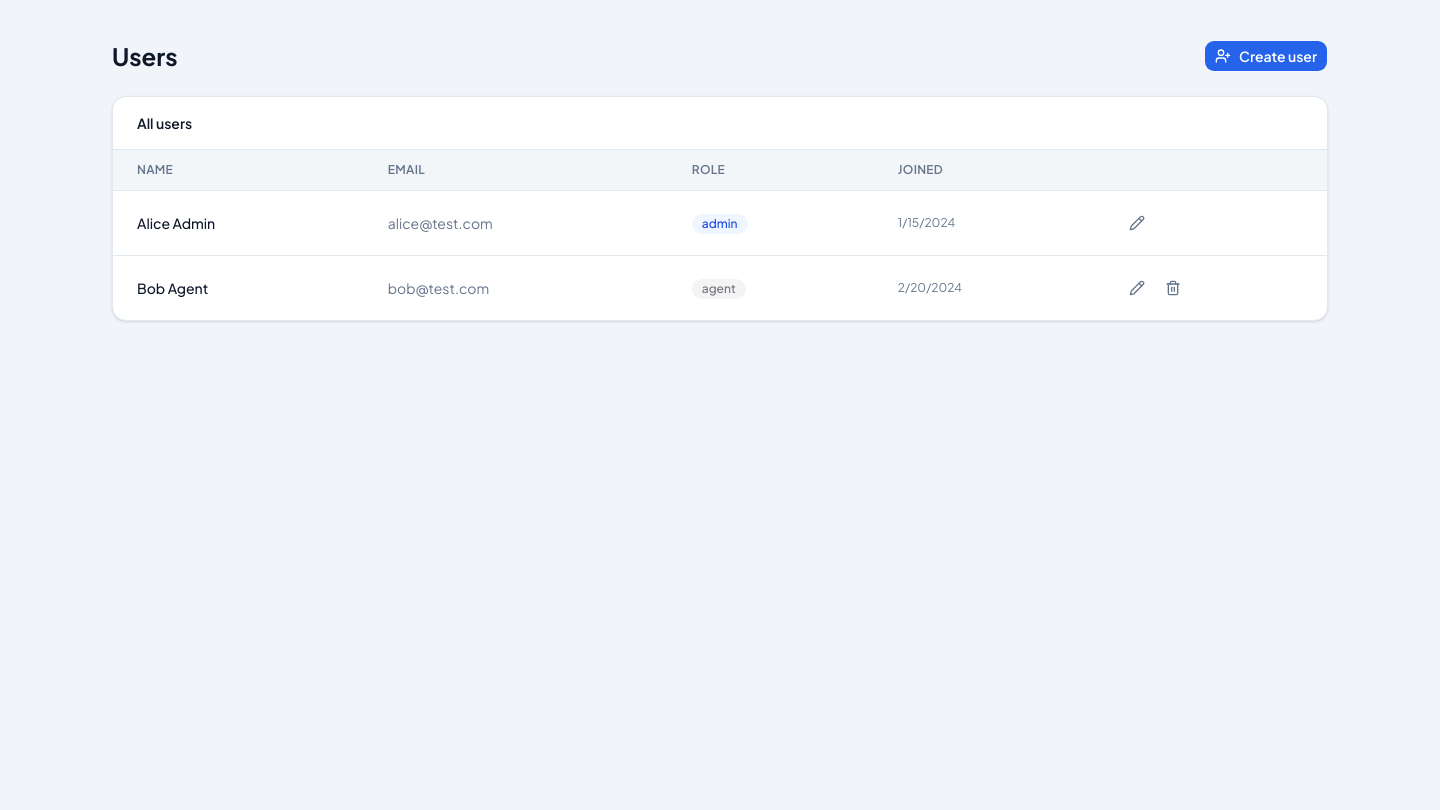
UsersPage › shows validation errors when submitting an empty form
Expected: the text "Alice Admin" is shown, [113,190,364,256]
Click the button "Create user": point(1266, 56) [1204,40,1328,72]
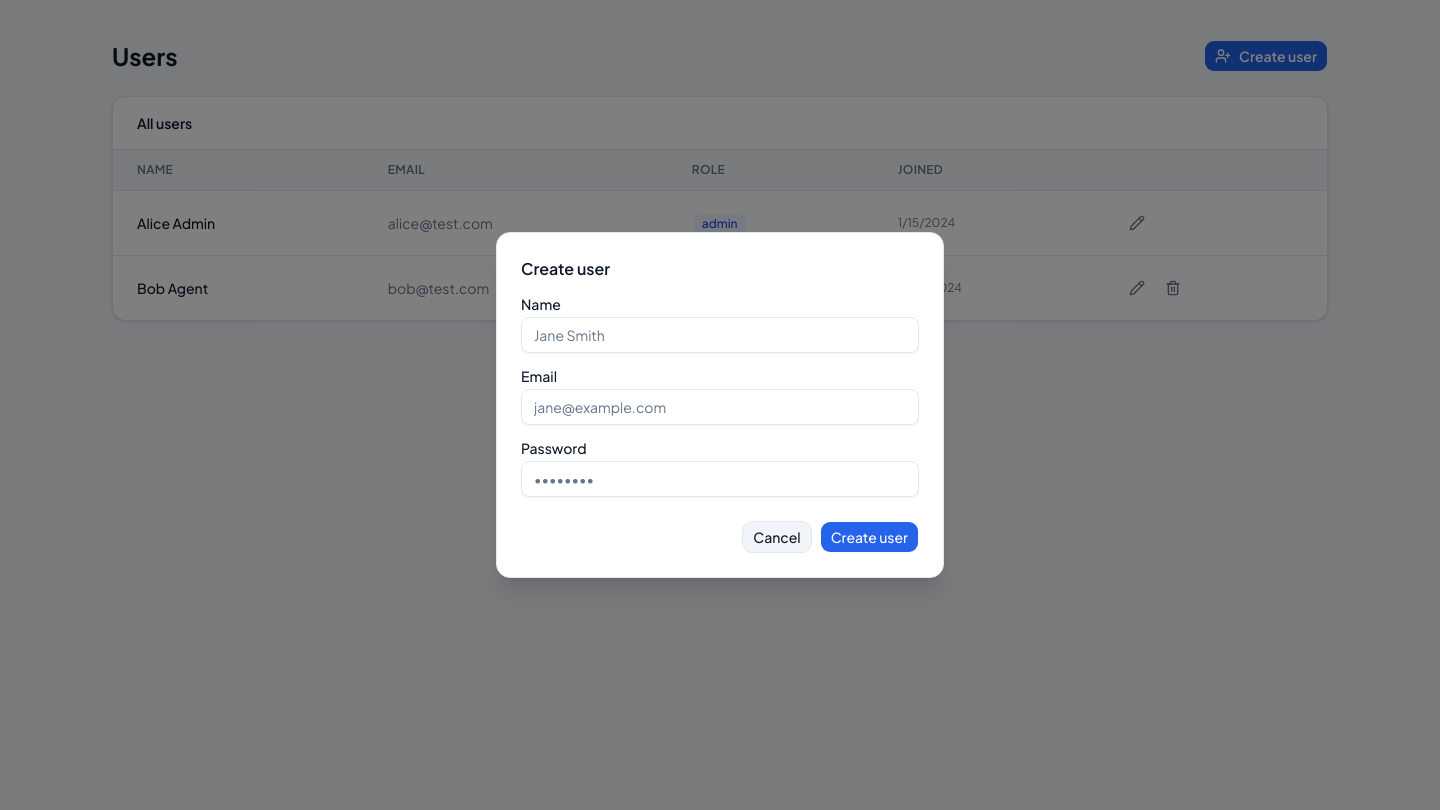
Submit the form, box [521,297,919,553]
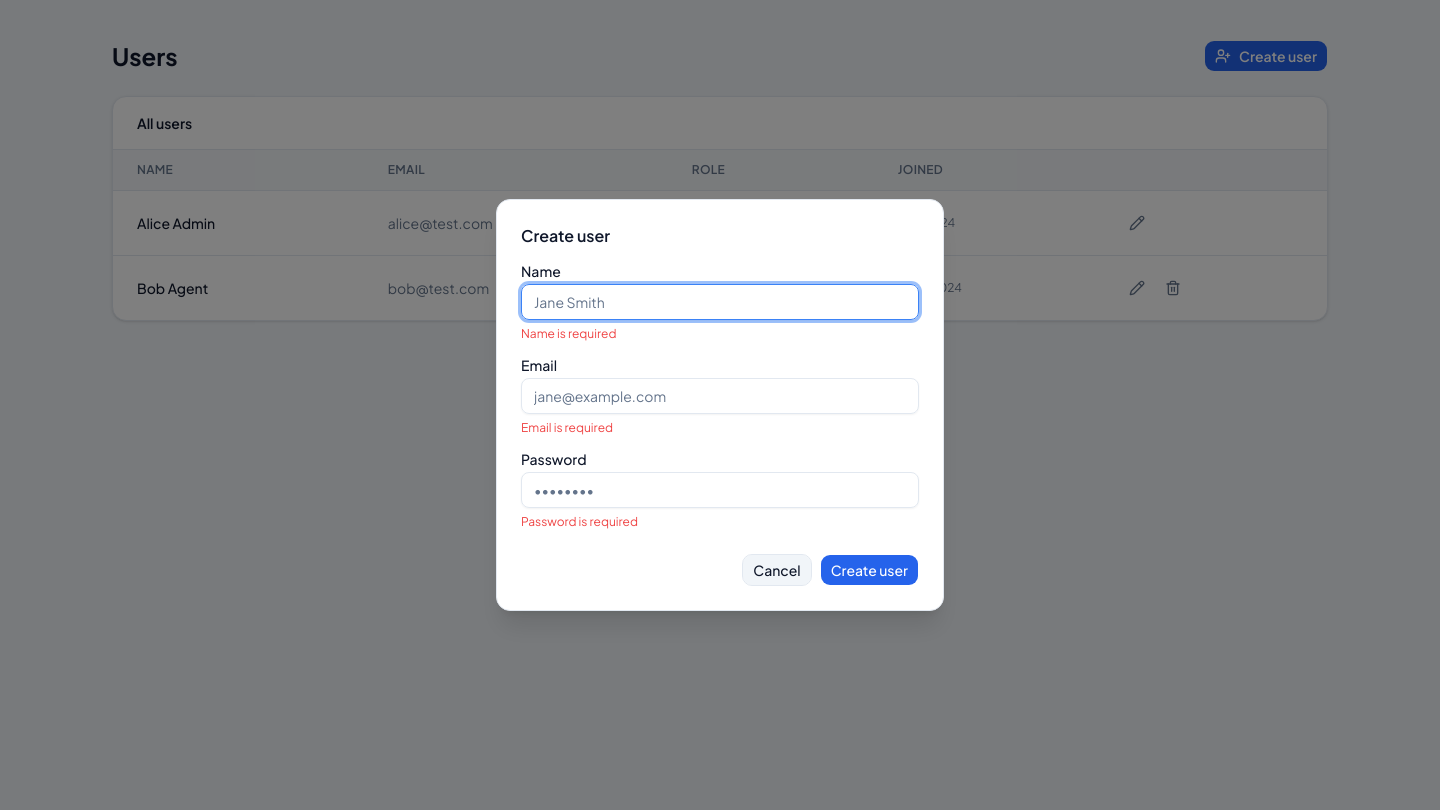
Now the text "Name is required" is shown, box [521,326,616,341]
Now the text "Email is required" is shown, box [521,420,613,435]
Now the text "Password is required" is shown, box [521,514,638,529]
